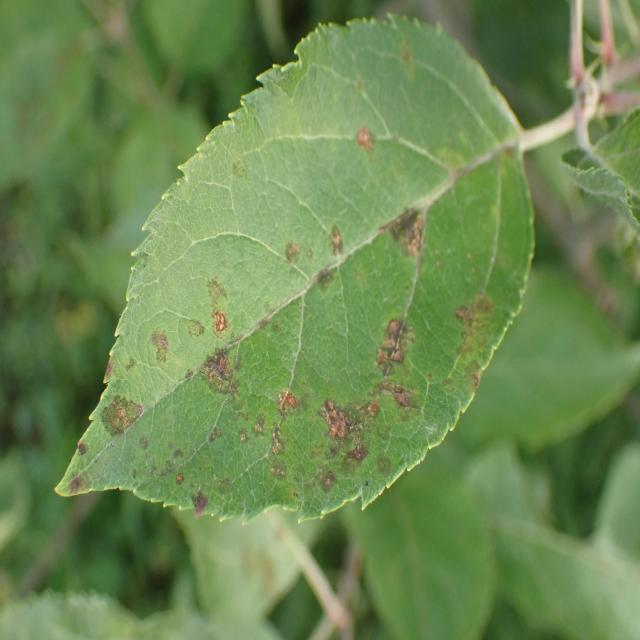diseased: (56, 17, 538, 518)
